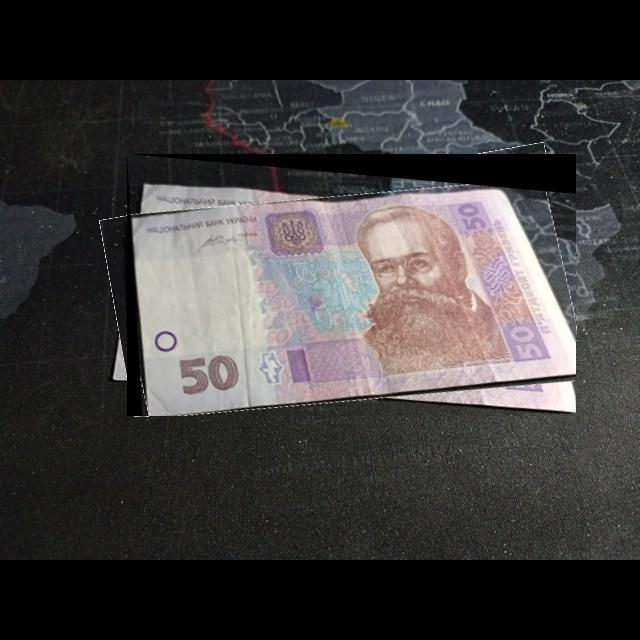50uah: (131, 181, 577, 417)
